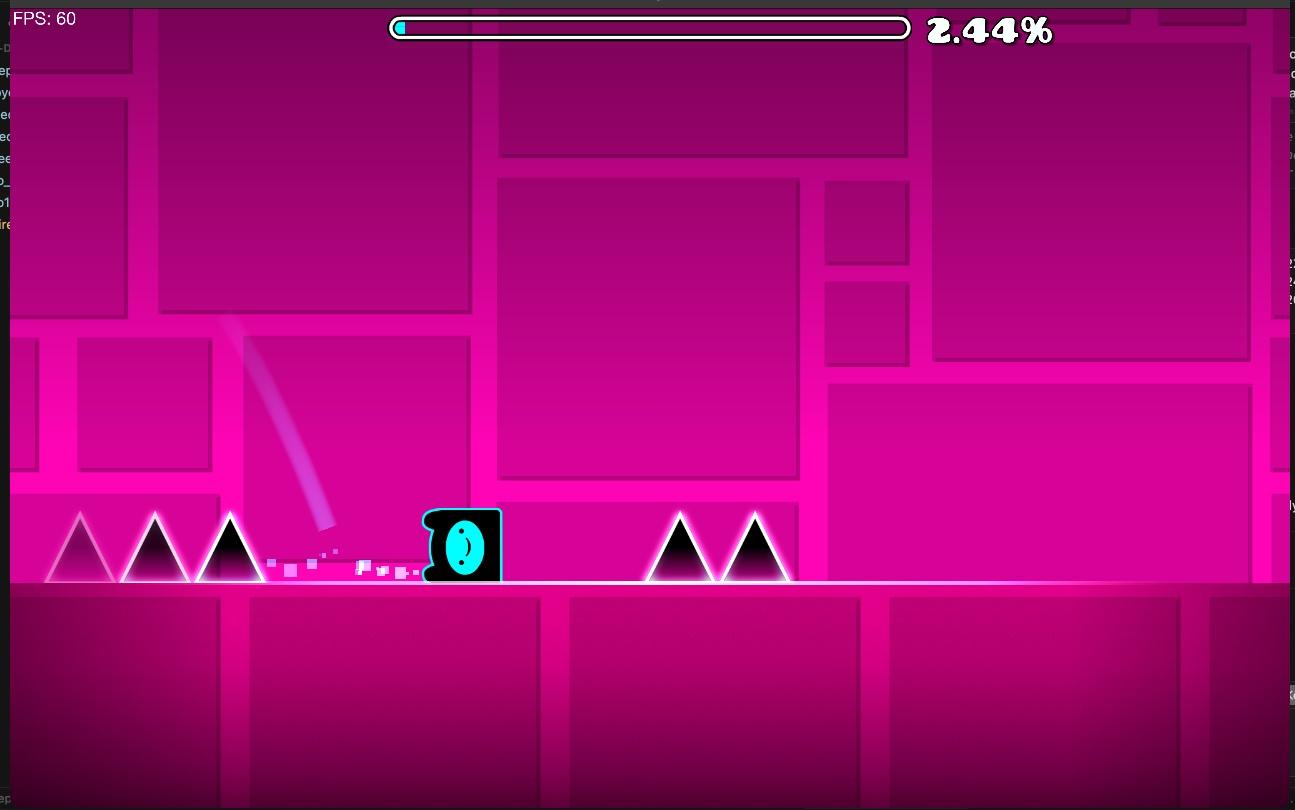block: (10, 583, 1287, 809)
player: (423, 508, 502, 580)
spike: (45, 512, 263, 583), (645, 512, 791, 581)
